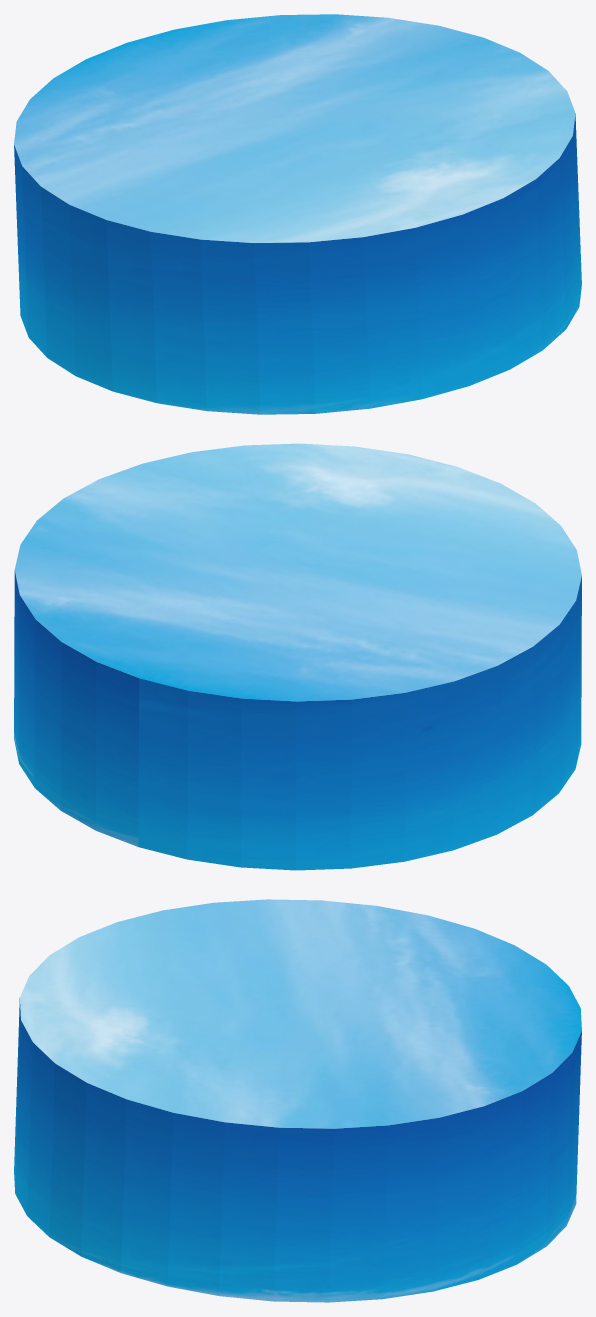
File: linkpagina.gltf
3 renders of one model, top to bottom at view 1: azimuth 30°, elevation 25°; view 2: azimuth 150°, elevation 25°; view 3: azimuth 270°, elevation 25°, orthographic.
Visible parts, largest first — view 1: Cilindro; view 2: Cilindro; view 3: Cilindro.
Part boxes in pixels (left/top/right/bottom): Cilindro: left=14, top=14, right=581, bottom=414; Cilindro: left=14, top=443, right=581, bottom=870; Cilindro: left=14, top=899, right=581, bottom=1302.
Bounding box in the file's own units: 0.6972 × 0.2576 × 0.6929.
Materials: 1 (1 with a texture image).
